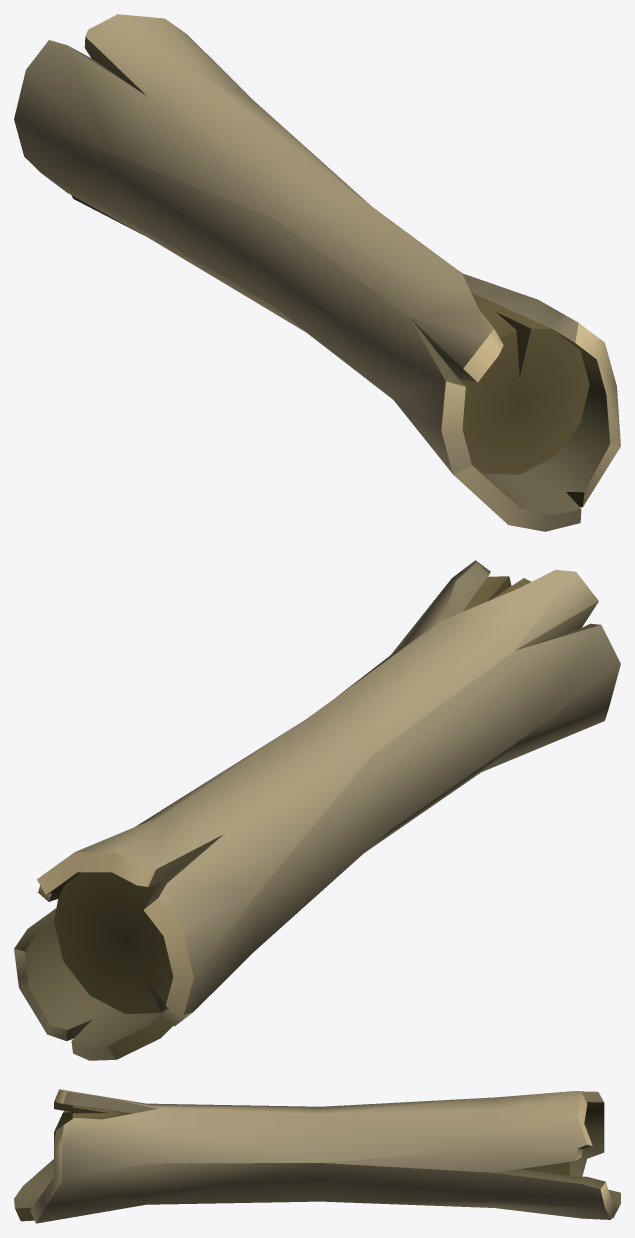
The model's file is Tree_Log_1B.fbx.
3 views of the same model, one above another, from view 1: azimuth 30°, elevation 25°; view 2: azimuth 150°, elevation 25°; view 3: azimuth 270°, elevation 25° (orthographic). The views are drawn at different scales.
Visible parts, largest first — view 1: Tree_Log_1B; view 2: Tree_Log_1B; view 3: Tree_Log_1B.
Boxes of the visible parts, box(x1,y1,x2,y2) form: Tree_Log_1B: box(14, 14, 620, 531); Tree_Log_1B: box(14, 560, 620, 1060); Tree_Log_1B: box(14, 1089, 620, 1223).
Size of the model in its own units: 41.34 by 41.78 by 191.
